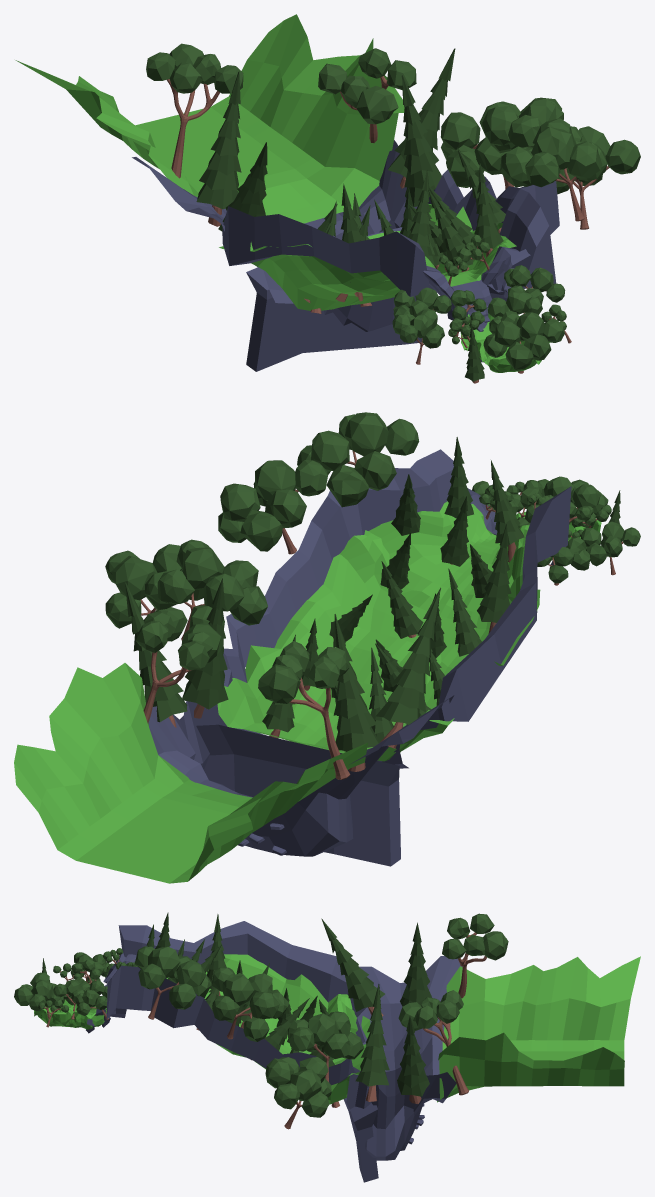
The model's file is Level1.fbx.
3 renders of one model, top to bottom at view 1: azimuth 30°, elevation 25°; view 2: azimuth 150°, elevation 25°; view 3: azimuth 270°, elevation 25°, orthographic. The views are drawn at different scales.
Parts seen in each view (by area): view 1: Level1; view 2: Level1; view 3: Level1.
Boxes of the visible parts, x1,y1,x2,y2 form: Level1: (15, 14, 640, 383); Level1: (14, 412, 640, 883); Level1: (14, 912, 640, 1182).
Size of the model in its own units: 12286 by 9519 by 23406.
